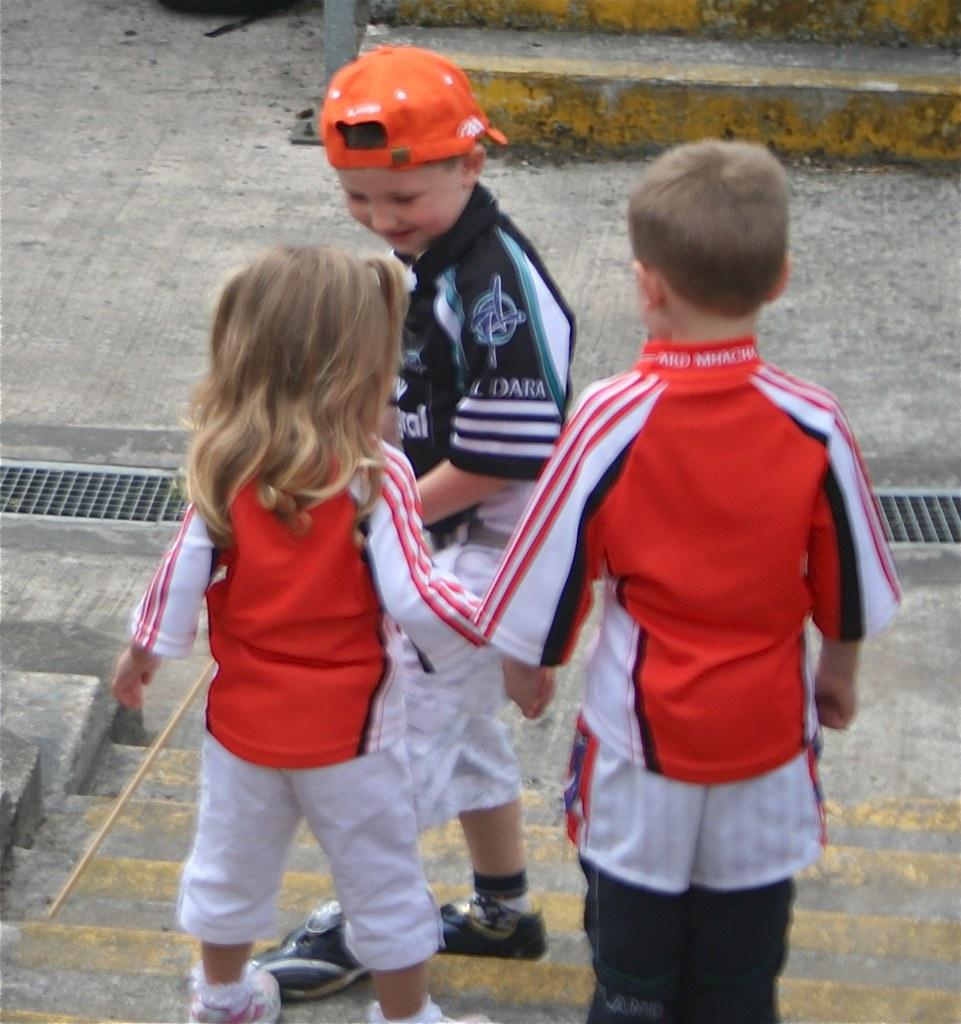Hat: (318, 44, 506, 188)
